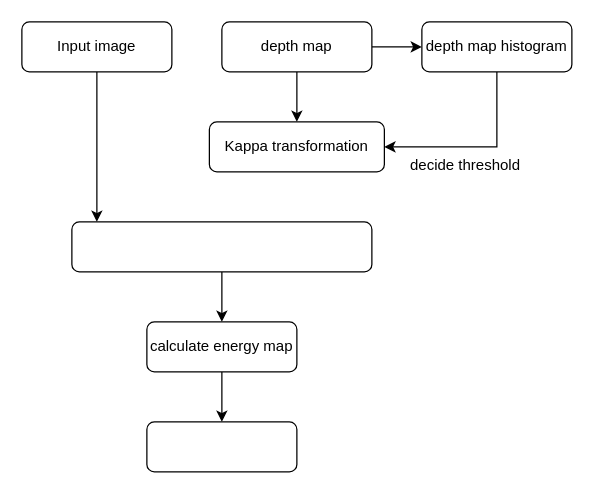
The diagram is 594 pixels wide and 494 high, and some of its shapes have lost their labels. Here are the shapes that lost their labels. From the top down, the centre of each, then its label:
At (221,246): "smoothing-sharpening self-guided filter".
At (221,446): "seam_carving".
